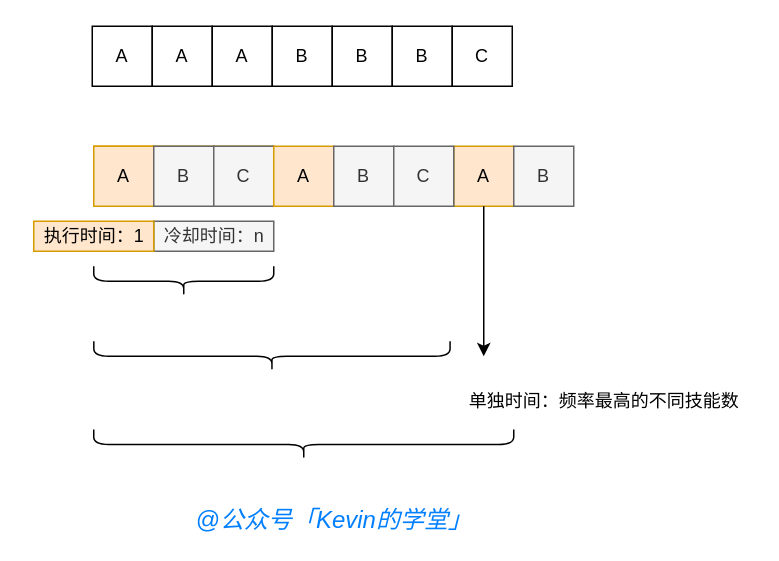
This 779x561 diagram has some shape labels left out. Here are the shapes that lost their labels. From the top down, the centre of each, then its label:
the point at 183,280: 一轮时间：(n+1)
the point at 271,355: 轮回时间：(频率最高技能次数 - 1) * (n + 1)
the point at 303,443: 总时间： (频率最高技能次数 - 1) * (n + 1) + 频率最高的不同技能数
